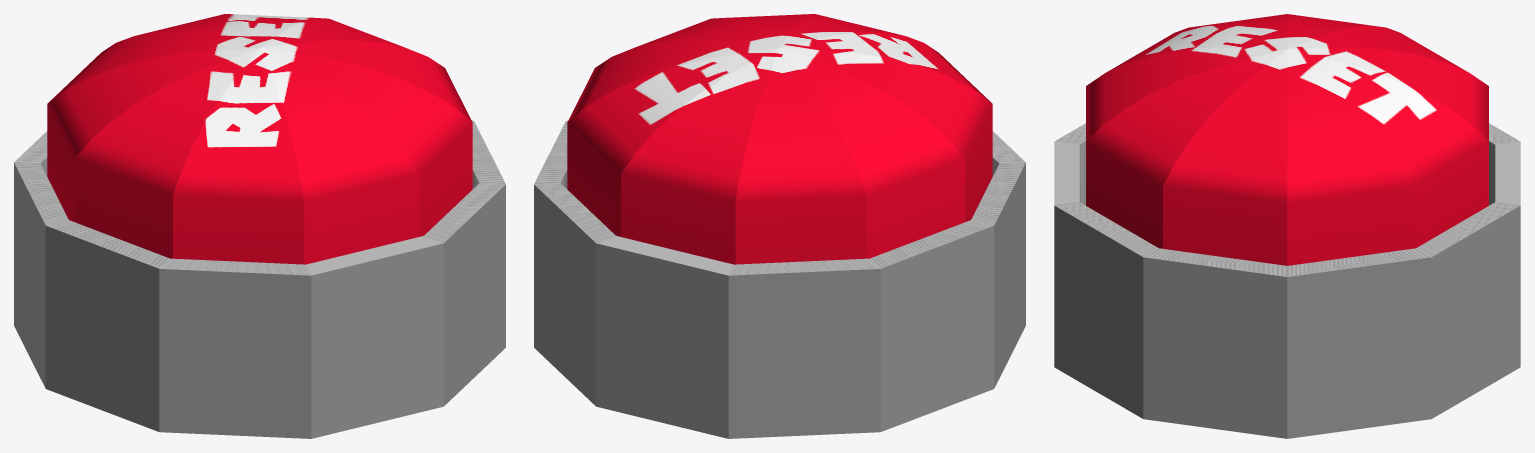
File: Button 1.fbx
3 renders of one model, left to right at view 1: azimuth 30°, elevation 25°; view 2: azimuth 150°, elevation 25°; view 3: azimuth 270°, elevation 25°, orthographic.
Visible parts, largest first — view 1: ButtonBody1, ButtonHead1; view 2: ButtonBody1, ButtonHead1; view 3: ButtonBody1, ButtonHead1.
Boxes of the visible parts, <box> form: ButtonBody1: <box>14,120,505,438</box>; ButtonHead1: <box>47,14,472,264</box>; ButtonBody1: <box>534,120,1025,438</box>; ButtonHead1: <box>567,14,992,264</box>; ButtonBody1: <box>1054,123,1520,438</box>; ButtonHead1: <box>1086,14,1488,265</box>.
Size of the model in its own units: 2 by 1.29 by 1.9.
2 materials, 2 textured.
